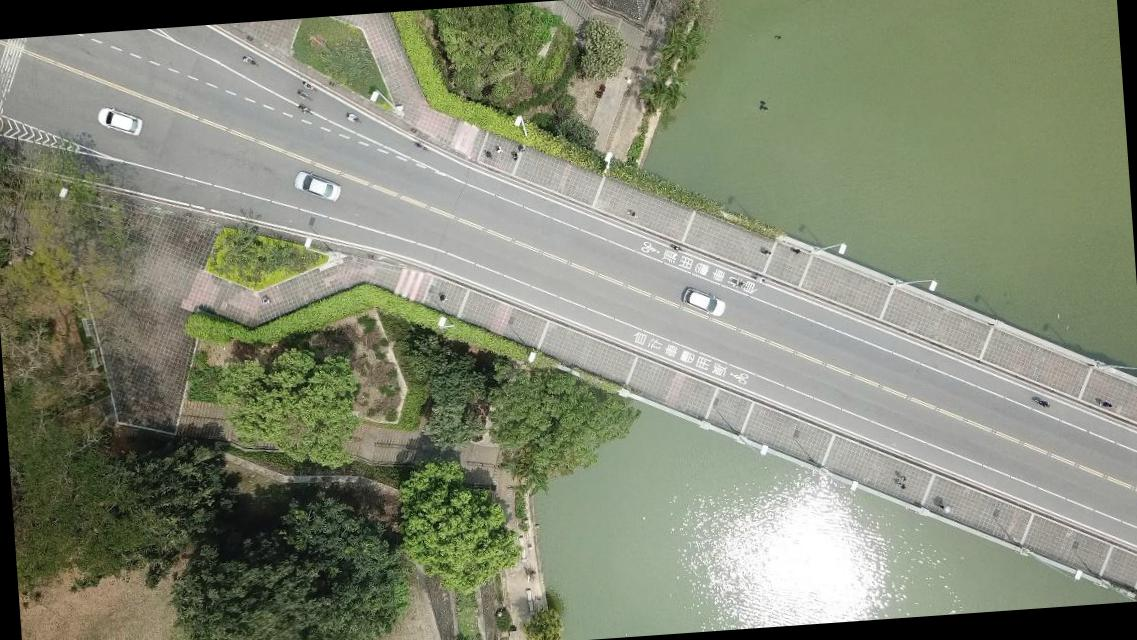vehicle: (292, 168, 343, 206), (96, 104, 143, 138), (681, 286, 726, 318)
